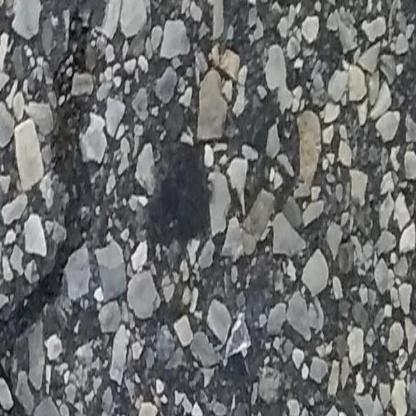Cracks: (0, 0, 106, 416)
